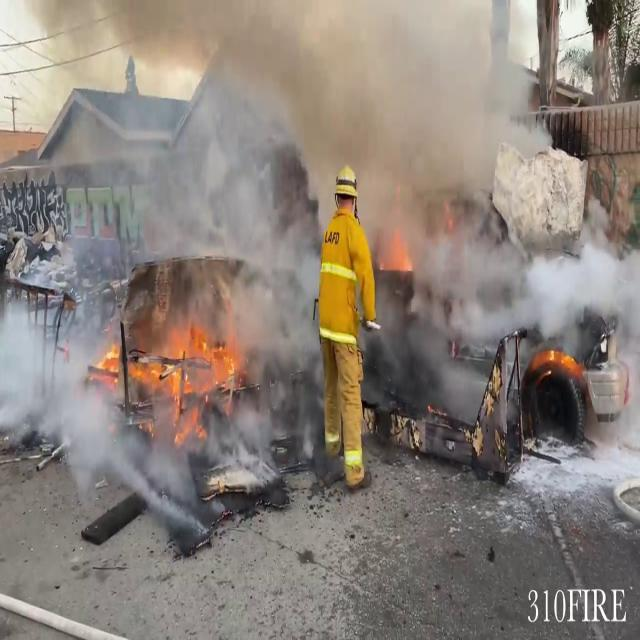Fire: (144, 306, 247, 439)
Smoke: (12, 0, 556, 307), (0, 254, 220, 506)
